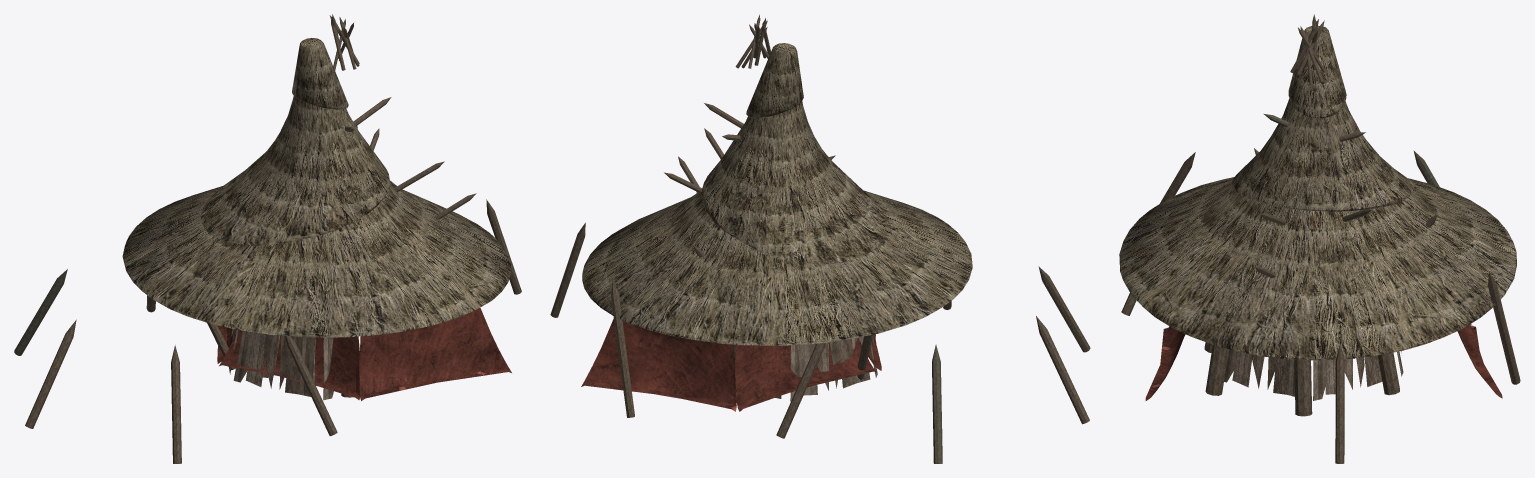
Rendered from bohio_puntiagudo.glb.
The picture shows the model from 3 angles, left to right: view 1: azimuth 30°, elevation 25°; view 2: azimuth 150°, elevation 25°; view 3: azimuth 270°, elevation 25°; orthographic projection. The views are drawn at different scales.
Visible parts, largest first — view 1: bohio_puntiagudo; view 2: bohio_puntiagudo; view 3: bohio_puntiagudo.
Part boxes in pixels (box(x1,y1,x2,y2)): bohio_puntiagudo: box(14, 14, 521, 463); bohio_puntiagudo: box(550, 14, 1090, 463); bohio_puntiagudo: box(1119, 14, 1520, 463).
Bounding box in the file's own units: 9.39 × 5.9 × 6.08.
Materials: 5 (5 with a texture image).
